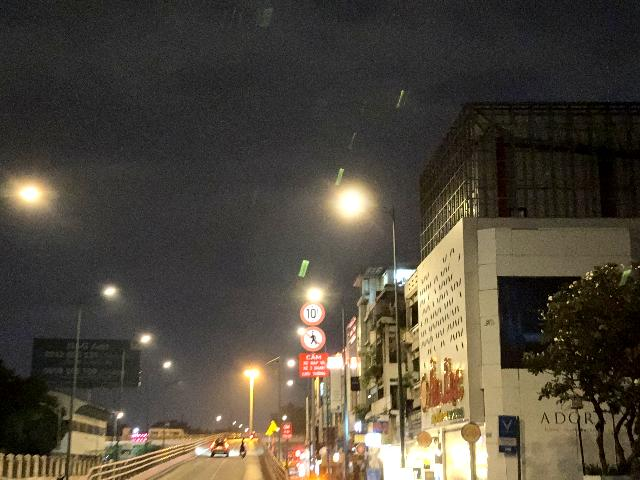cam-nguoi-di-bo: (300, 327, 326, 352)
han-che-trong-luong-xe: (299, 301, 325, 326)
